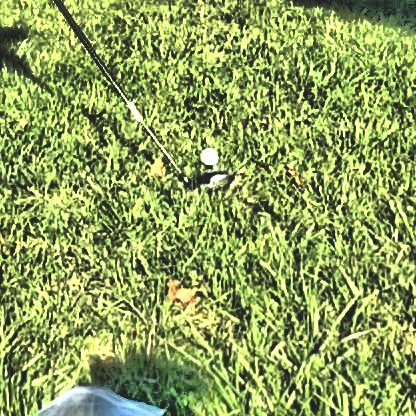golfball: (197, 143, 216, 162)
